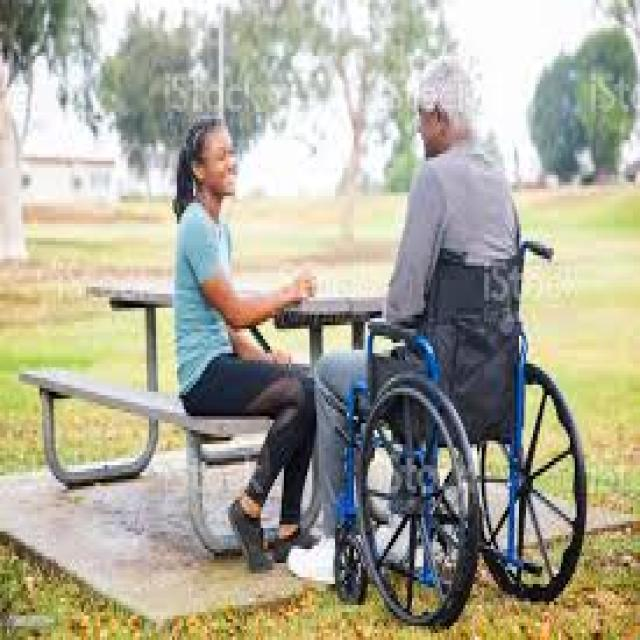wheelchairs: (316, 231, 600, 612)
